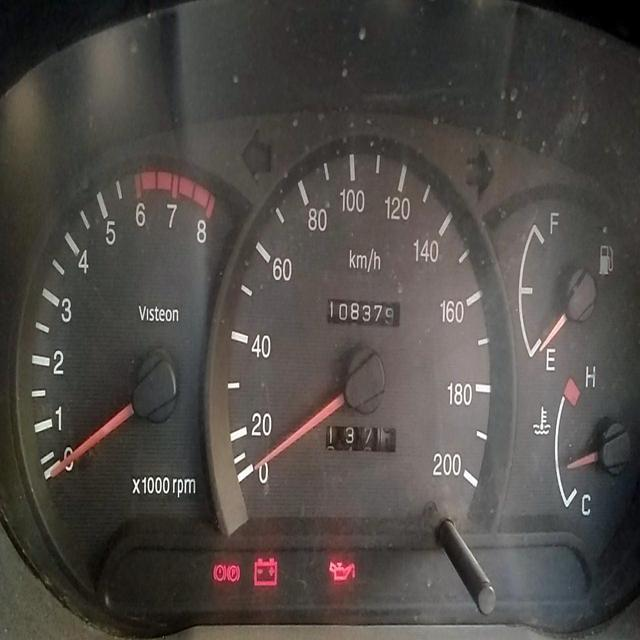odometer: (326, 297, 400, 328)
